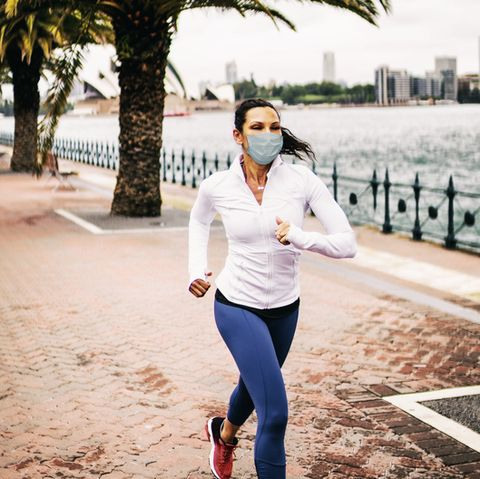with_mask: (221, 94, 307, 185)
